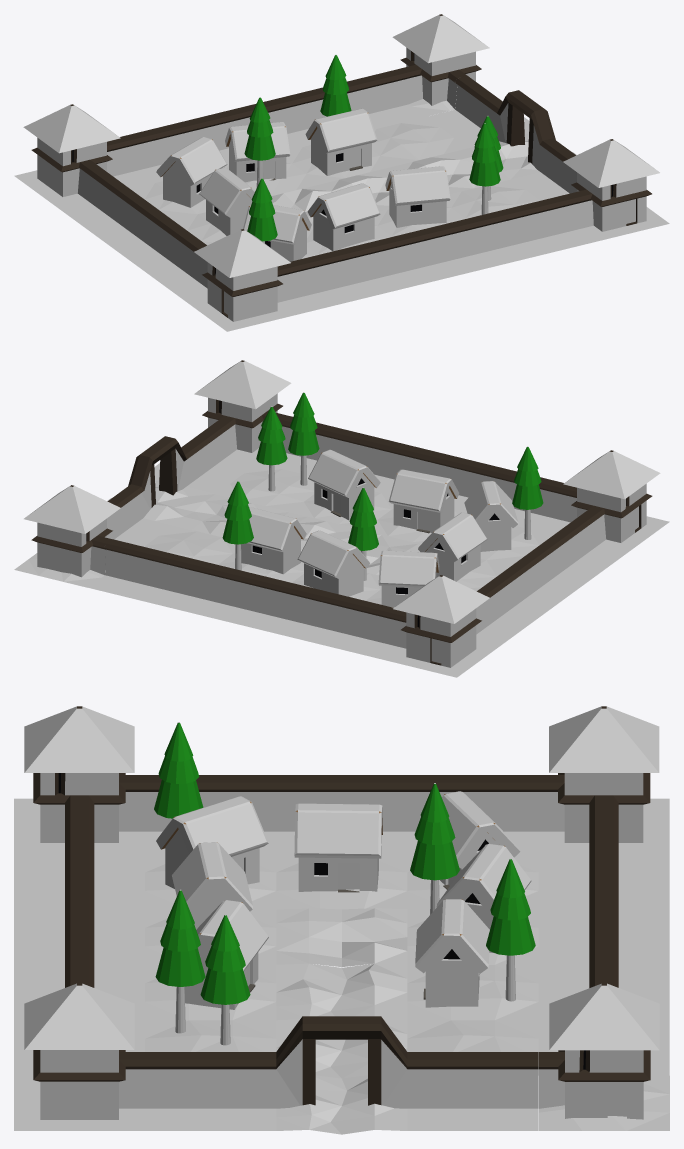
The model's file is town8.obj.
The picture shows the model from 3 angles, top to bottom: view 1: azimuth 30°, elevation 25°; view 2: azimuth 150°, elevation 25°; view 3: azimuth 270°, elevation 25°; orthographic projection. The views are drawn at different scales.
Visible parts, largest first — view 1: CornerFort.004_Mesh, CornerFort.001_Mesh, CornerFort.003_Mesh, CornerFort.002_Mesh, Cube.053_Mesh, Cube.051_Mesh, Cube.054_Mesh, Cube.048_Mesh, Plane.405_Mesh, Cube.015_Mesh, Cube.016_Mesh, Cube.017_Mesh (+46 smaller); view 2: CornerFort.003_Mesh, CornerFort.002_Mesh, CornerFort.004_Mesh, CornerFort.001_Mesh, Cube.051_Mesh, Cube.049_Mesh, Cube.054_Mesh, Cube.053_Mesh, Cube.004_Mesh, Cube.002_Mesh, Cube.003_Mesh, Cube.001_Mesh (+44 smaller); view 3: CornerFort.001_Mesh, CornerFort.002_Mesh, CornerFort.003_Mesh, CornerFort.004_Mesh, Cube.038_Mesh, Cube.050_Mesh, Cube.033_Mesh, Cube.035_Mesh, Plane.397_Mesh, TexturedPlane.010_Mesh, Cube.053_Mesh, Plane.359_Mesh (+50 smaller).
Part boxes in pixels (bbox=[...]): CornerFort.004_Mesh: bbox=[194, 229, 290, 321]; CornerFort.001_Mesh: bbox=[563, 139, 659, 231]; CornerFort.003_Mesh: bbox=[23, 104, 120, 196]; CornerFort.002_Mesh: bbox=[392, 14, 489, 105]; Cube.053_Mesh: bbox=[305, 108, 377, 175]; Cube.051_Mesh: bbox=[307, 183, 380, 251]; Cube.054_Mesh: bbox=[385, 166, 450, 227]; Cube.048_Mesh: bbox=[156, 137, 227, 207]; Plane.405_Mesh: bbox=[372, 117, 467, 165]; Cube.015_Mesh: bbox=[350, 229, 431, 282]; Cube.016_Mesh: bbox=[424, 211, 505, 265]; Cube.017_Mesh: bbox=[498, 193, 579, 246]; CornerFort.003_Mesh: bbox=[393, 575, 489, 667]; CornerFort.002_Mesh: bbox=[24, 485, 120, 577]; CornerFort.004_Mesh: bbox=[563, 450, 660, 542]; CornerFort.001_Mesh: bbox=[194, 360, 291, 452]; Cube.051_Mesh: bbox=[388, 469, 459, 533]; Cube.049_Mesh: bbox=[297, 530, 370, 596]; Cube.054_Mesh: bbox=[308, 449, 380, 520]; Cube.053_Mesh: bbox=[241, 507, 306, 574]; Cube.004_Mesh: bbox=[104, 539, 185, 592]; Cube.002_Mesh: bbox=[252, 575, 333, 628]; Cube.003_Mesh: bbox=[178, 557, 259, 610]; Cube.001_Mesh: bbox=[326, 593, 405, 646]; CornerFort.001_Mesh: bbox=[24, 983, 134, 1119]; CornerFort.002_Mesh: bbox=[549, 983, 659, 1119]; CornerFort.003_Mesh: bbox=[549, 706, 659, 842]; CornerFort.004_Mesh: bbox=[24, 706, 134, 842]; Cube.038_Mesh: bbox=[276, 1016, 407, 1108]; Cube.050_Mesh: bbox=[294, 803, 382, 892]; Cube.033_Mesh: bbox=[145, 1052, 276, 1108]; Cube.035_Mesh: bbox=[407, 1052, 538, 1108]; Plane.397_Mesh: bbox=[276, 908, 407, 967]; TexturedPlane.010_Mesh: bbox=[276, 963, 407, 1020]; Cube.053_Mesh: bbox=[415, 899, 489, 1007]; Plane.359_Mesh: bbox=[538, 909, 669, 964].
Size of the model in its own units: 60 by 12.6 by 50.02.
